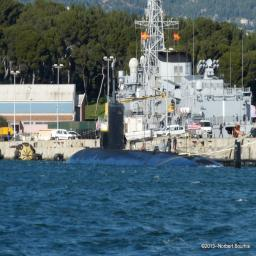submarine: (69, 66, 226, 168)
